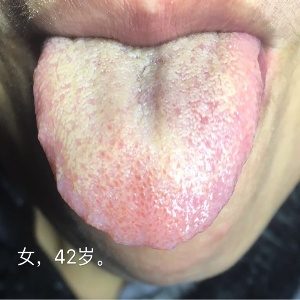st: (32, 41, 245, 250)
